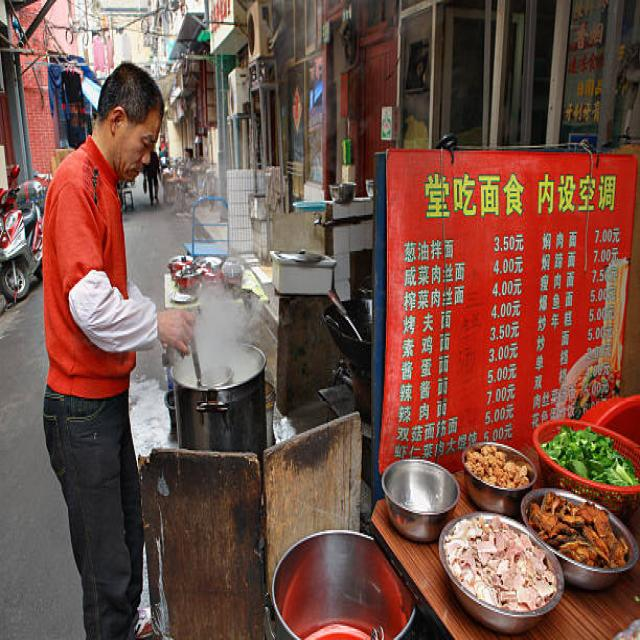Emperan: (89, 168, 639, 640)
